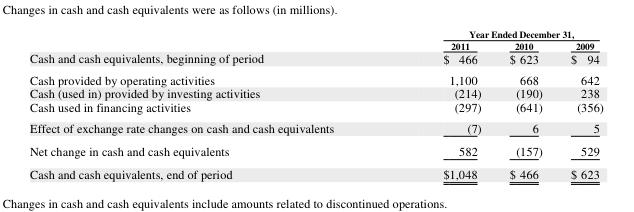table: (28, 28, 602, 181)
table column: (28, 28, 387, 181), (387, 28, 494, 181), (494, 28, 555, 181), (555, 28, 602, 181)
table column header: (28, 28, 602, 51)
table row: (28, 139, 602, 162), (28, 117, 602, 139), (28, 162, 602, 181), (28, 68, 602, 86), (28, 51, 602, 68), (28, 100, 602, 117), (28, 86, 602, 100), (28, 39, 602, 51), (28, 28, 602, 39)
table spanning cell: (387, 28, 602, 39)
